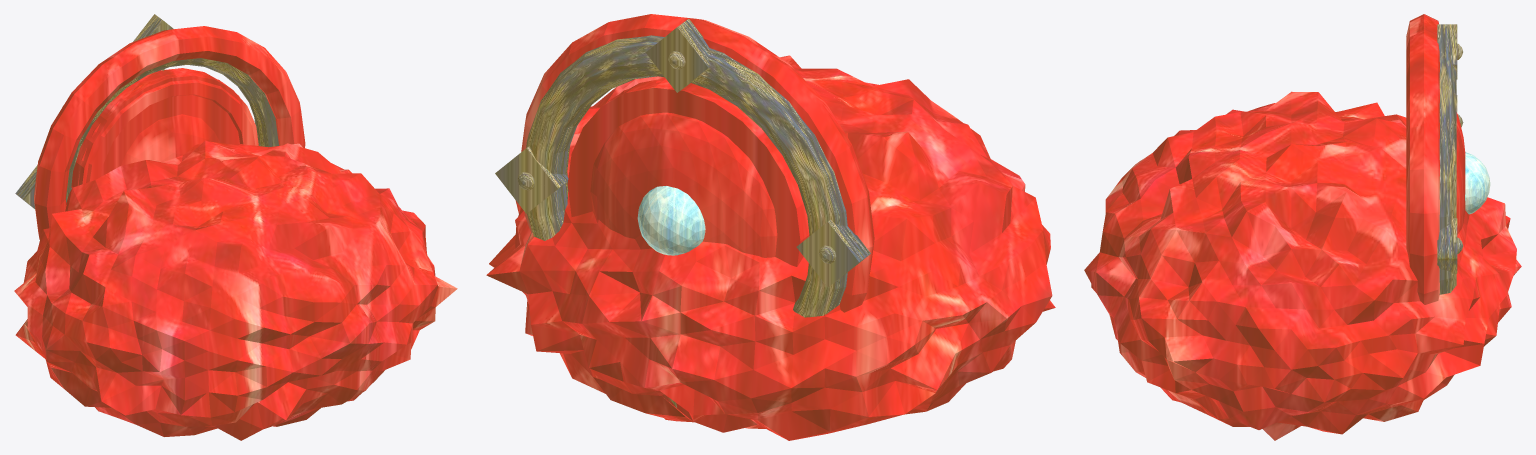
The model's file is gel_shield.glb.
The picture shows the model from 3 angles, left to right: view 1: azimuth 30°, elevation 25°; view 2: azimuth 150°, elevation 25°; view 3: azimuth 270°, elevation 25°; orthographic projection. The views are drawn at different scales.
Parts seen in each view (by area): view 1: body, metal; view 2: body, metal, glow; view 3: body, metal, glow.
Boxes of the visible parts, box(x1,y1,x2,y2) form: body: box(14, 26, 457, 440); metal: box(15, 14, 278, 209); body: box(486, 14, 1055, 440); metal: box(495, 19, 870, 407); glow: box(637, 186, 705, 255); body: box(1084, 14, 1521, 440); metal: box(1437, 24, 1463, 294); glow: box(1465, 152, 1490, 214).
Bounding box in the file's own units: 1.48 × 1.18 × 1.32.
Materials: 2 (2 with a texture image).
